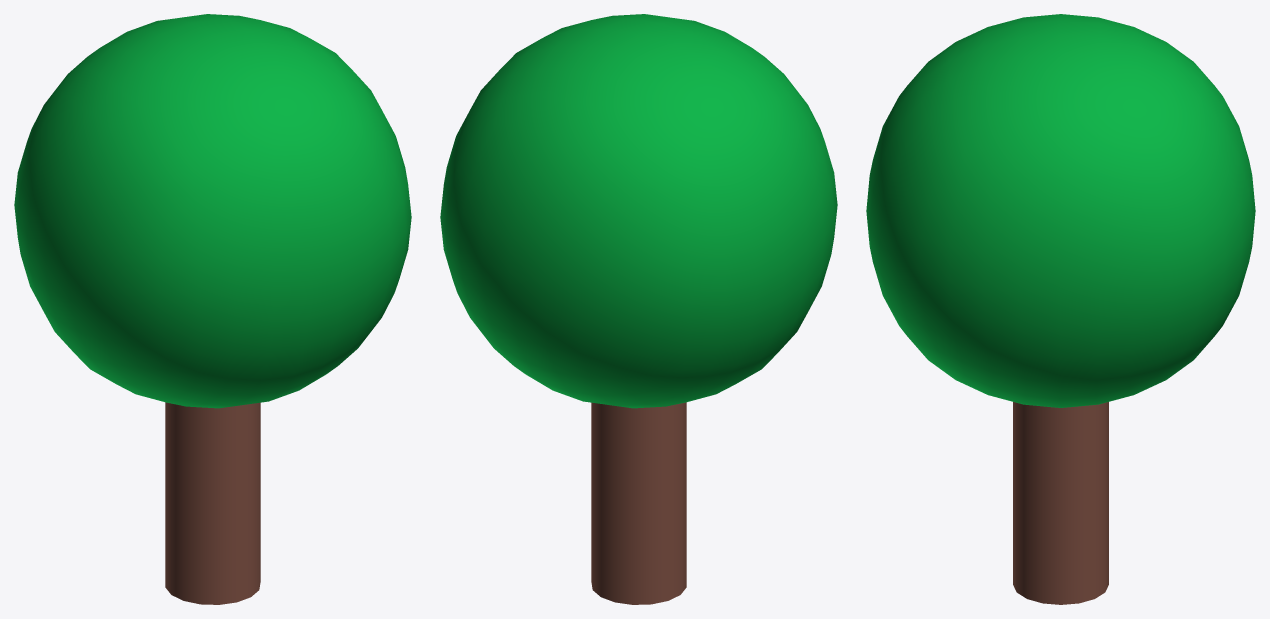
File: City_10_Tree_1.glb
The picture shows the model from 3 angles, left to right: view 1: azimuth 30°, elevation 25°; view 2: azimuth 150°, elevation 25°; view 3: azimuth 270°, elevation 25°; orthographic projection.
Parts seen in each view (by area): view 1: City_10_Tree_1; view 2: City_10_Tree_1; view 3: City_10_Tree_1.
Part boxes in pixels (<box>): City_10_Tree_1: <box>14,14,411,604</box>; City_10_Tree_1: <box>440,14,837,604</box>; City_10_Tree_1: <box>866,14,1255,604</box>.
Size of the model in its own units: 2.23 by 3.48 by 2.23.
1 material, 1 textured.
